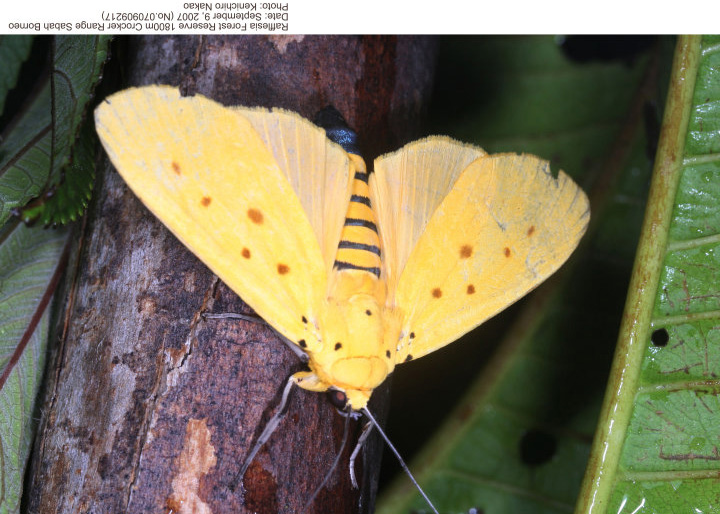Agape chloropyga: (87, 74, 593, 512)
moth: (89, 76, 595, 514)
